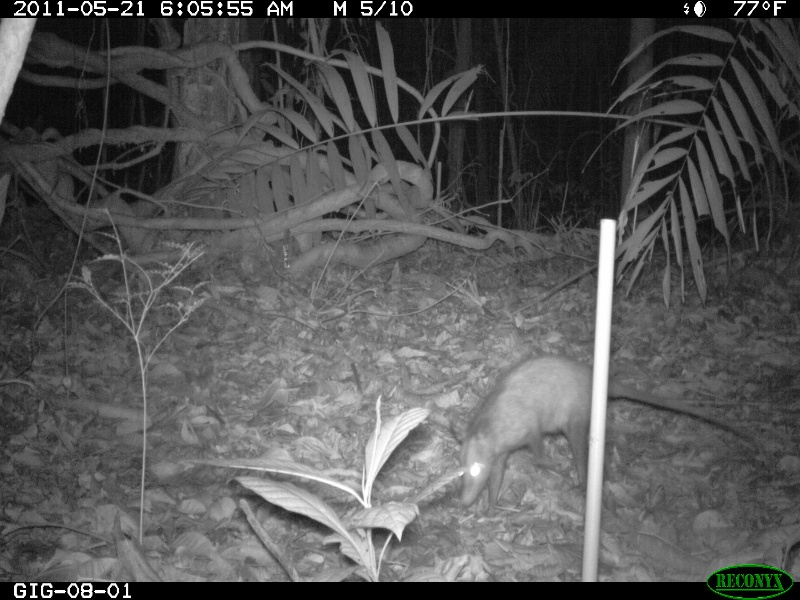opossum: (453, 353, 767, 511)
